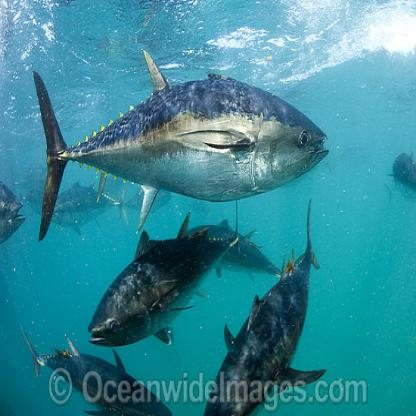Scombridae -Tunas-: (22, 42, 332, 234), (82, 199, 245, 349)
